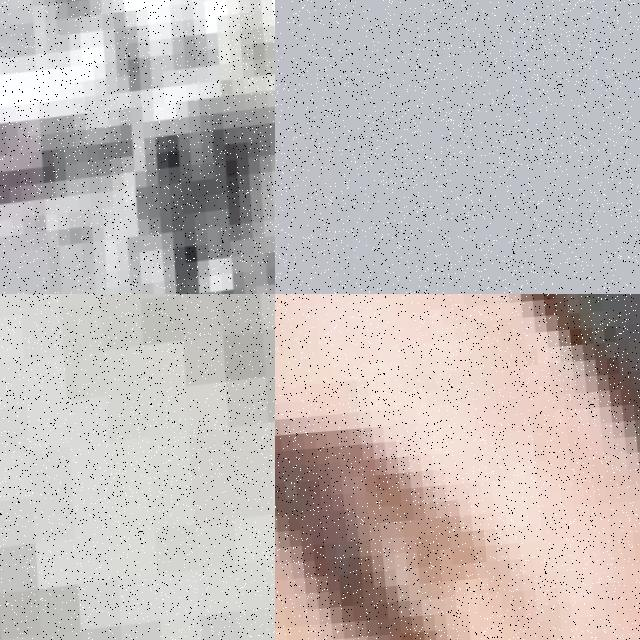0: (275, 0, 640, 294), (0, 0, 275, 294)
drone: (0, 294, 275, 640)
